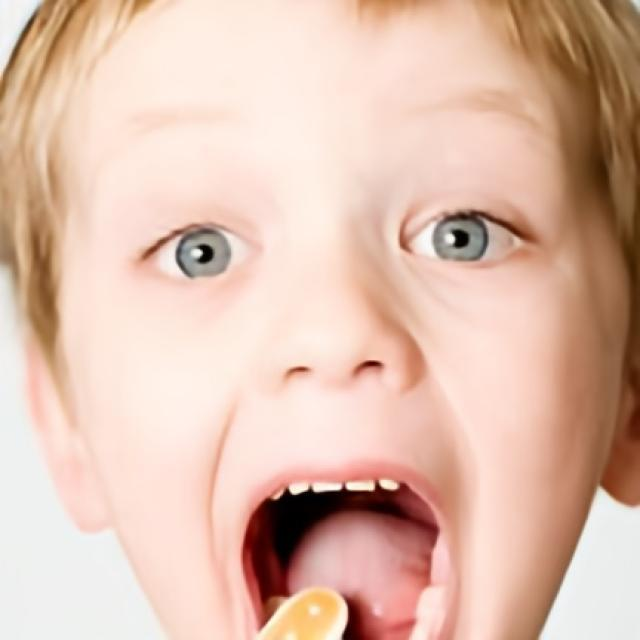surprise: (58, 0, 632, 640)
